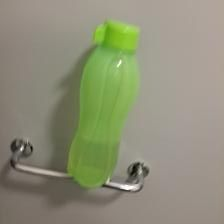bottle: (64, 18, 145, 191)
